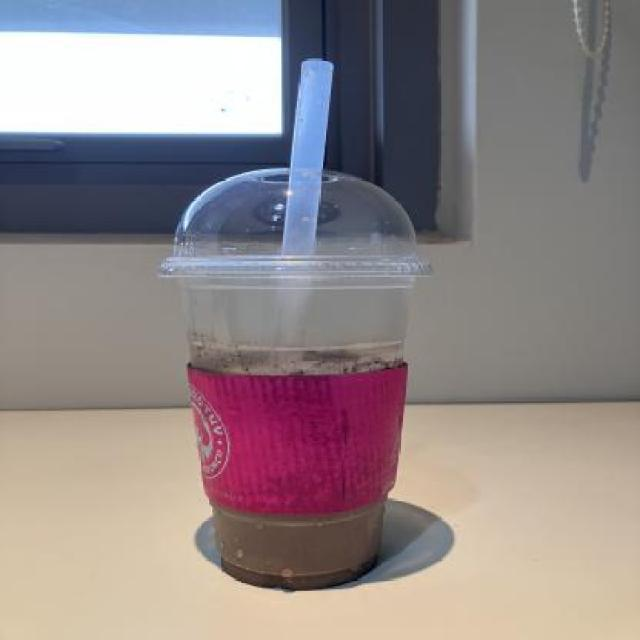cup: (157, 156, 425, 616)
